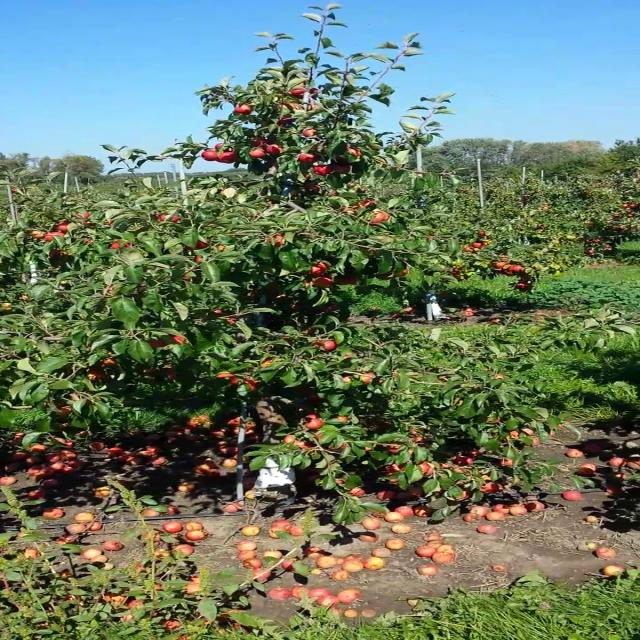apple: (508, 427, 546, 447), (151, 333, 186, 349), (283, 434, 312, 448), (357, 371, 383, 385), (301, 262, 328, 275), (215, 372, 237, 386), (83, 366, 105, 380), (296, 152, 321, 164), (438, 464, 467, 474), (55, 404, 74, 419), (407, 428, 427, 442), (314, 338, 338, 349), (242, 376, 258, 392), (385, 463, 406, 475), (449, 456, 474, 466), (479, 482, 501, 493), (219, 152, 239, 164), (164, 365, 180, 380), (306, 392, 326, 404), (265, 142, 281, 156), (74, 211, 90, 225), (187, 240, 209, 250), (314, 164, 332, 176), (368, 213, 389, 223), (48, 248, 69, 258), (312, 276, 332, 286), (304, 420, 324, 430), (201, 150, 219, 161), (416, 461, 431, 474), (57, 220, 73, 232), (390, 442, 406, 454), (302, 127, 321, 137), (44, 232, 65, 241), (346, 146, 364, 156), (210, 307, 228, 317), (328, 442, 348, 451), (158, 214, 180, 222), (235, 104, 252, 114), (249, 148, 266, 158), (28, 230, 44, 240), (390, 269, 410, 277), (338, 275, 358, 283), (356, 200, 375, 208), (99, 358, 118, 366), (289, 87, 304, 97), (339, 373, 354, 383), (278, 103, 302, 109), (250, 138, 266, 147), (278, 115, 292, 125), (307, 181, 321, 191), (258, 358, 272, 368), (334, 164, 351, 172), (273, 234, 284, 246), (459, 488, 470, 500), (287, 302, 300, 312), (332, 414, 348, 422), (110, 242, 130, 248), (375, 272, 390, 280), (295, 385, 310, 392), (314, 432, 324, 442), (306, 104, 321, 110), (226, 317, 236, 325), (304, 414, 320, 419), (214, 142, 224, 149), (310, 89, 321, 95), (195, 255, 201, 263)
